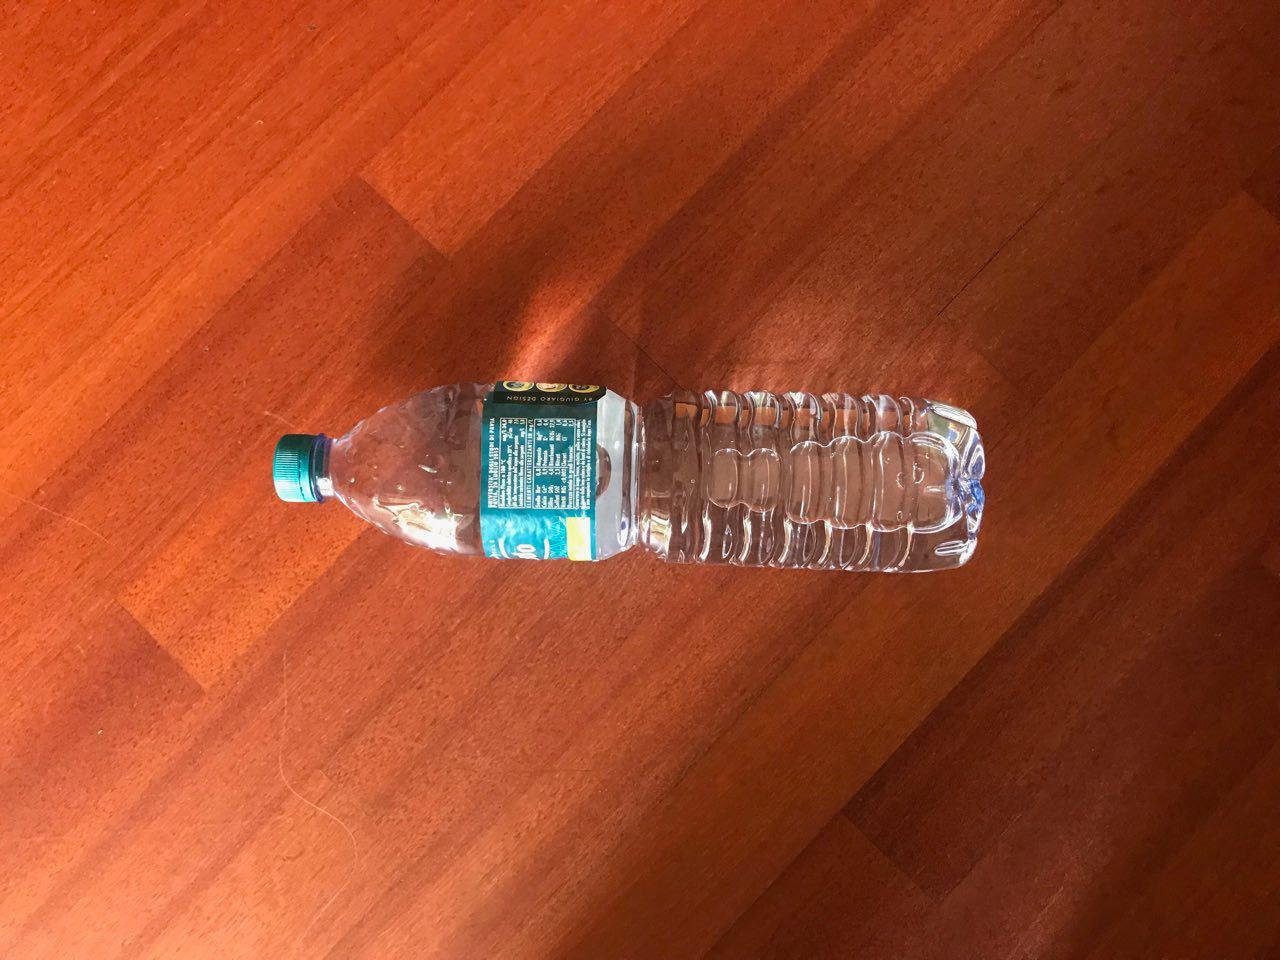san_bernardo: (269, 378, 987, 576)
